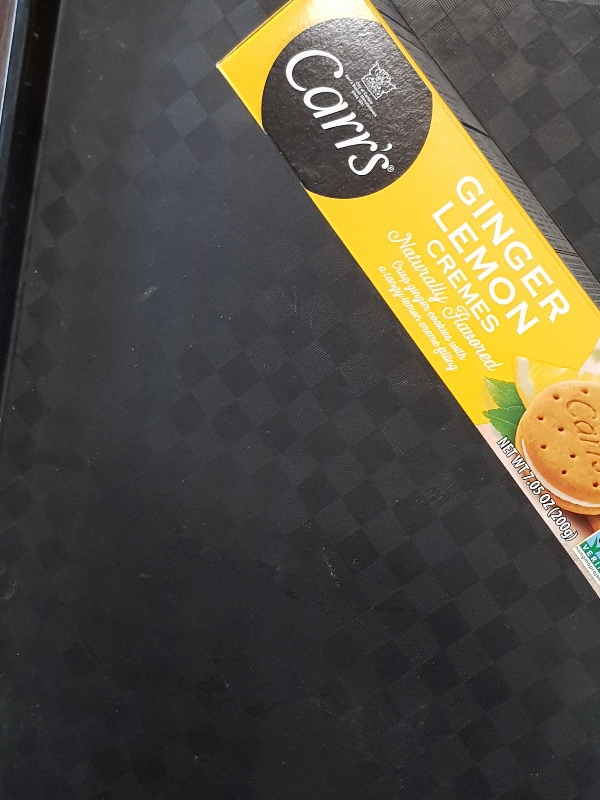Carr's Ginger Lemon Cremes: (212, 1, 600, 604)
